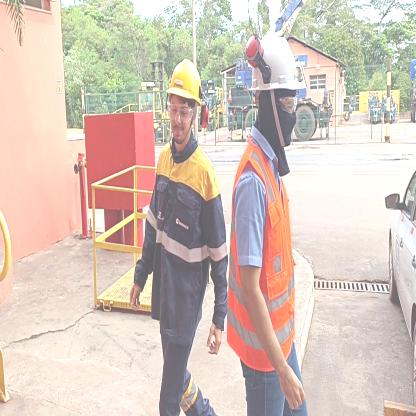Balaclava: (254, 89, 298, 148)
C_eletrica: (138, 137, 227, 341)
Capacete: (247, 38, 305, 92), (162, 51, 206, 100)
colete: (226, 137, 306, 370)
